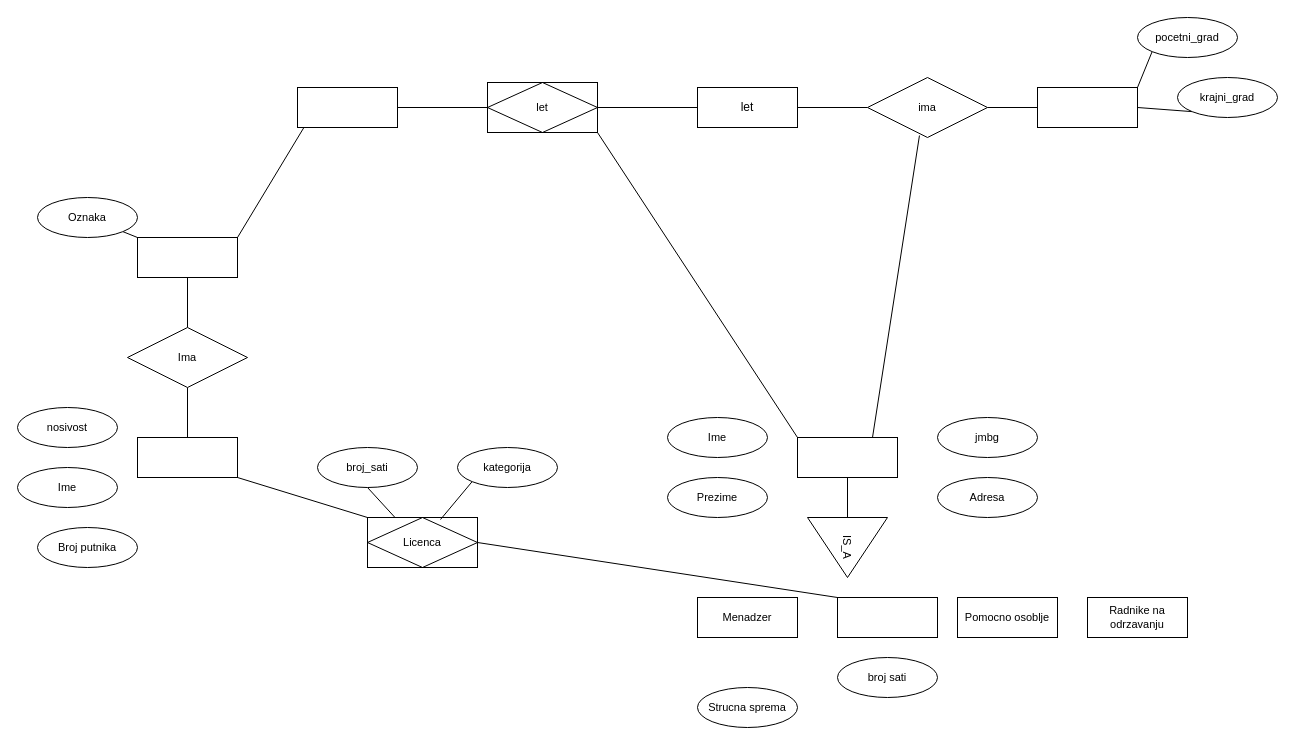
This 1295x745 diagram has some shape labels left out. Here are the shapes that lost their labels. From the top down, the centre of each, then its label:
At pixel 347 107: "grad".
At pixel 1087 107: "Dionica".
At pixel 187 257: "Avion".
At pixel 187 457: "Model".
At pixel 847 457: "Zaposleni".
At pixel 887 617: "Pilot".
